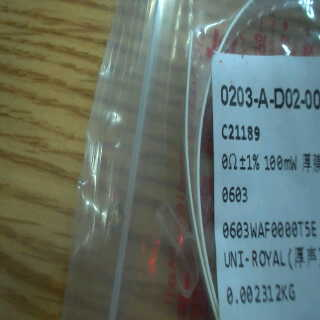0R: (220, 145, 301, 218)
